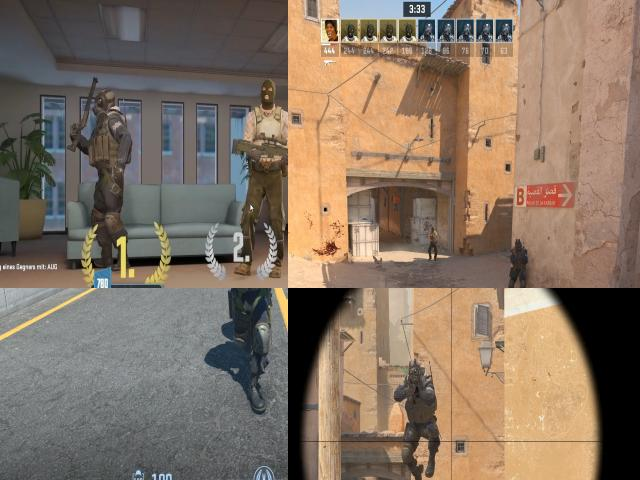CT: (86, 84, 132, 183), (402, 358, 438, 470), (228, 288, 263, 398), (257, 288, 278, 356), (511, 240, 528, 288)
CT-Head: (91, 84, 118, 127), (408, 361, 422, 382), (516, 240, 522, 249)
T: (244, 72, 288, 185), (430, 227, 438, 258)
T-Head: (256, 76, 283, 112), (432, 228, 434, 232)
